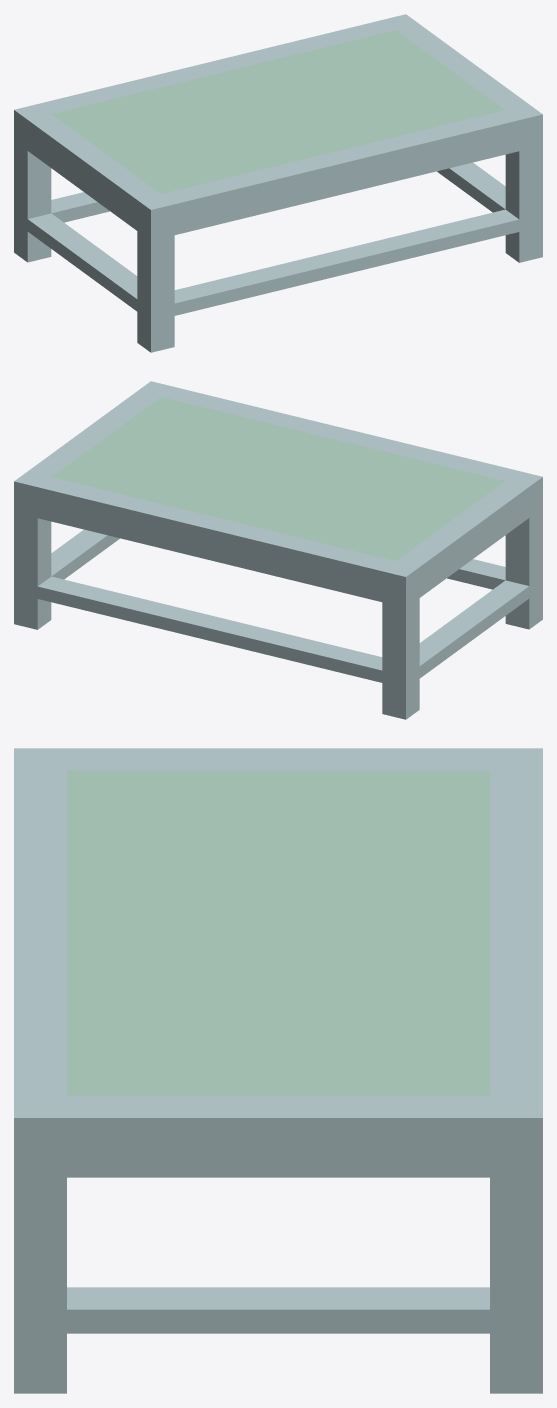
File: tableCoffeeGlass.fbx
The picture shows the model from 3 angles, top to bottom: view 1: azimuth 30°, elevation 25°; view 2: azimuth 150°, elevation 25°; view 3: azimuth 270°, elevation 25°; orthographic projection. The views are drawn at different scales.
Visible parts, largest first — view 1: tableCoffeeGlass; view 2: tableCoffeeGlass; view 3: tableCoffeeGlass.
Boxes of the visible parts, <box> form: tableCoffeeGlass: <box>14,14,542,352</box>; tableCoffeeGlass: <box>14,381,542,719</box>; tableCoffeeGlass: <box>14,748,542,1393</box>.
Bounding box in the file's own units: 6.61 × 2.3 × 4.
